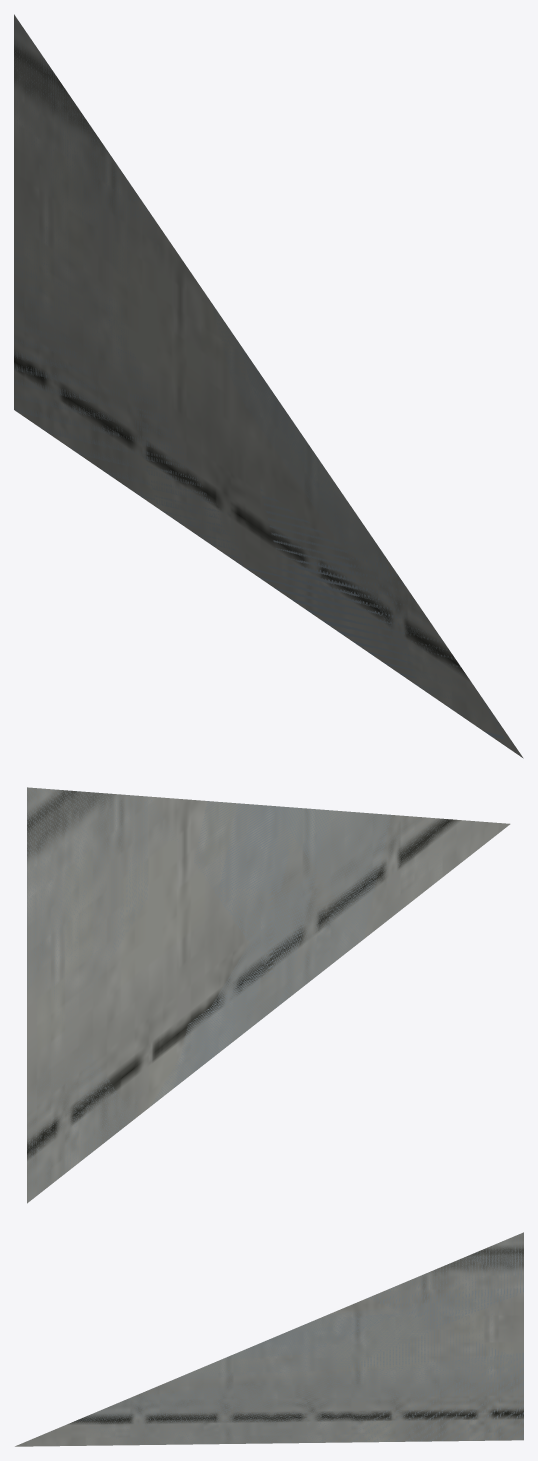
File: 人民英雄纪念碑1.dae
The picture shows the model from 3 angles, top to bottom: view 1: azimuth 30°, elevation 25°; view 2: azimuth 150°, elevation 25°; view 3: azimuth 270°, elevation 25°; orthographic projection. The views are drawn at different scales.
Parts seen in each view (by area): view 1: SketchUp; view 2: SketchUp; view 3: SketchUp.
Boxes of the visible parts, x1,y1,x2,y2 form: SketchUp: (14,14,523,758); SketchUp: (27,787,510,1203); SketchUp: (15,1232,523,1446).
Bounding box in the file's own units: 4.67 × 157 × 70.87.
